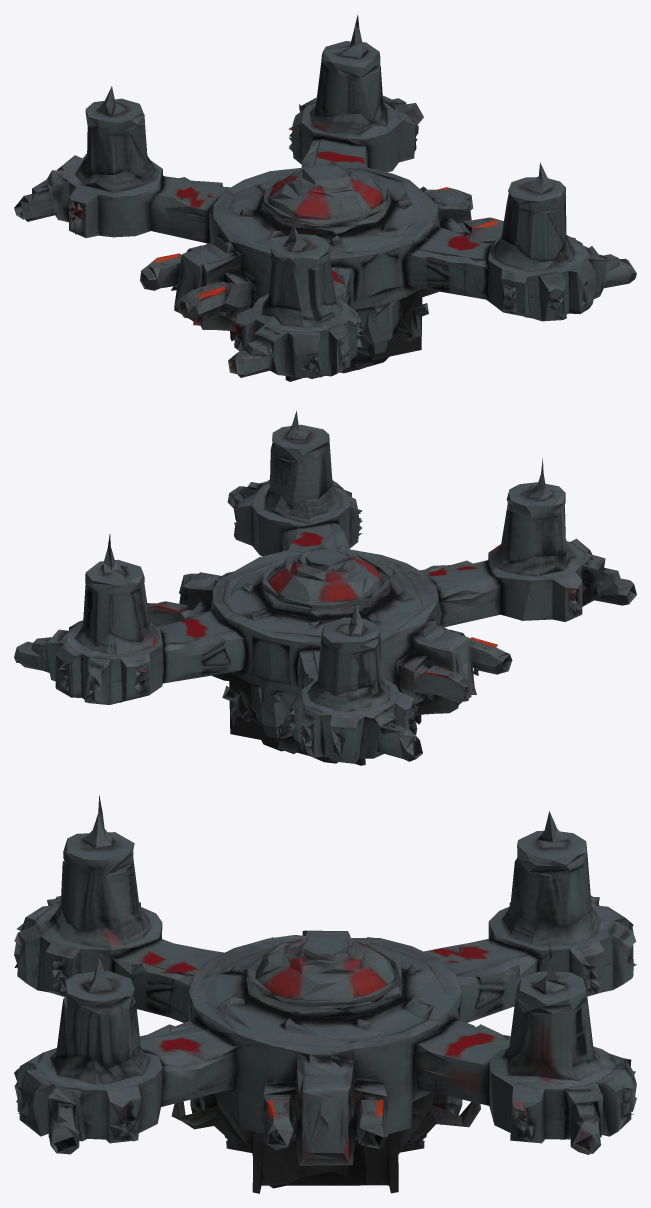
The model's file is nation-b-fortress.glb.
The picture shows the model from 3 angles, top to bottom: view 1: azimuth 30°, elevation 25°; view 2: azimuth 150°, elevation 25°; view 3: azimuth 270°, elevation 25°; orthographic projection. The views are drawn at different scales.
Size of the model in its own units: 1.71 by 1 by 1.89.
Materials: 1 (1 with a texture image).
